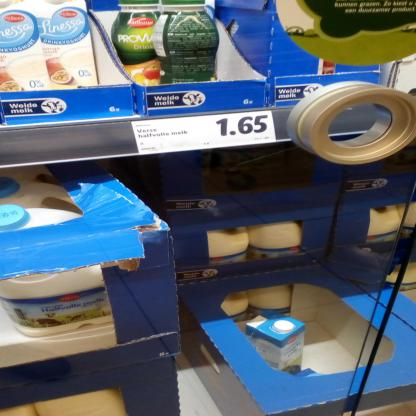prtg: (132, 111, 278, 156)
